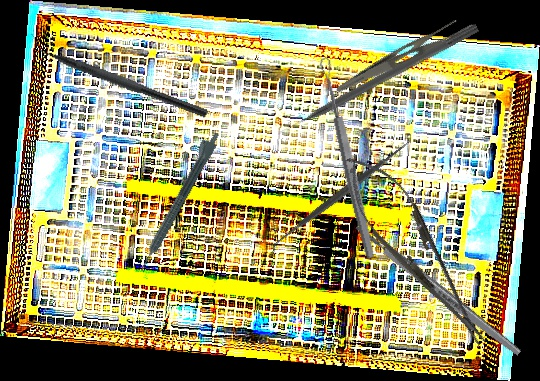Chopper: (23, 31, 213, 119)
Dressing Forceps: (334, 9, 472, 108)
Handpiece: (131, 127, 222, 274)
Needle Holder: (328, 141, 504, 360)
Pusher: (274, 20, 480, 139)
Scalpel Handle: (353, 221, 523, 359)
Spatula Surgical: (263, 133, 418, 257)
Surgical Spoon: (317, 56, 378, 260)
